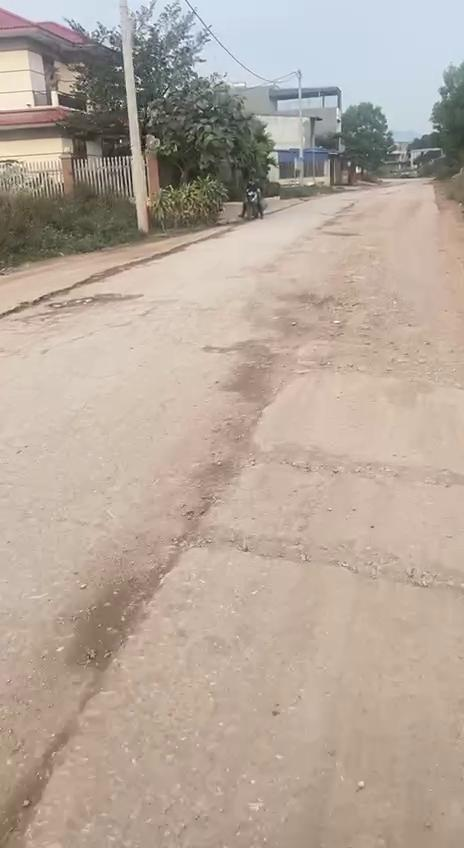pothole: (182, 528, 464, 597), (231, 426, 464, 502), (44, 292, 134, 314)
